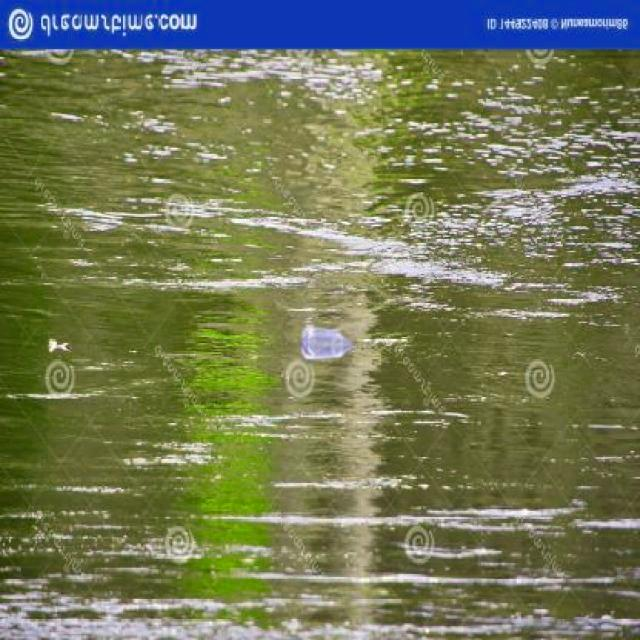Plastic: (300, 328, 358, 365)
